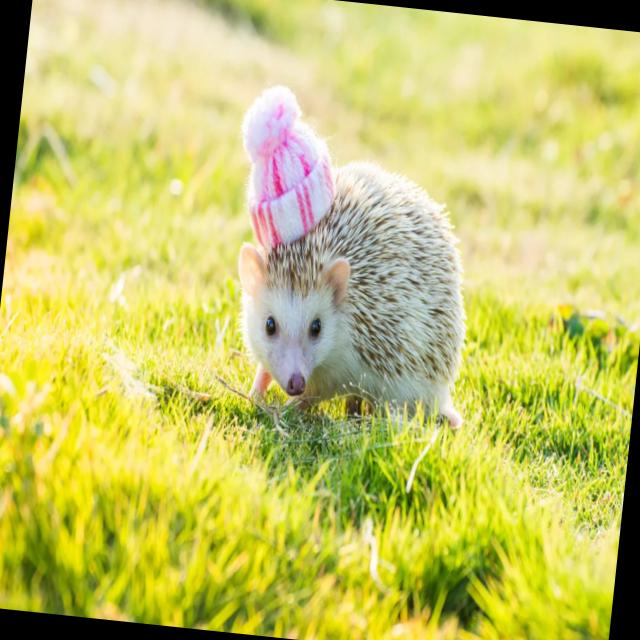Hedgehog: (221, 148, 495, 434)
